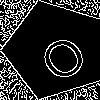O: (30, 25, 92, 85)
